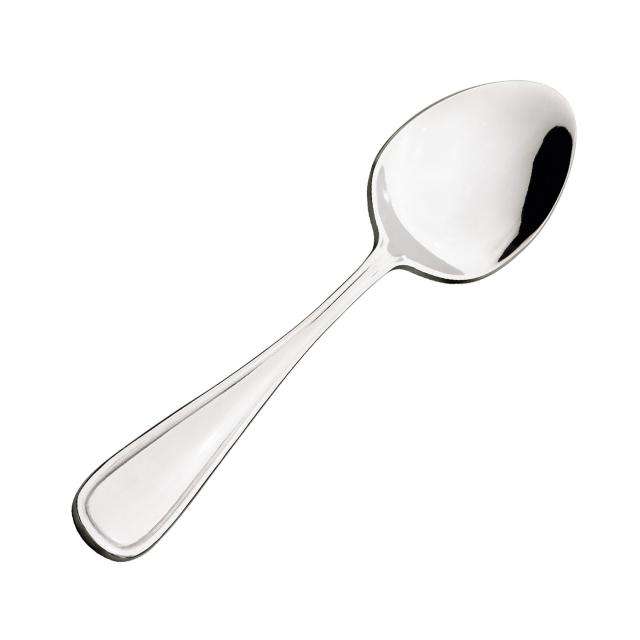spoon: (69, 71, 583, 564)
